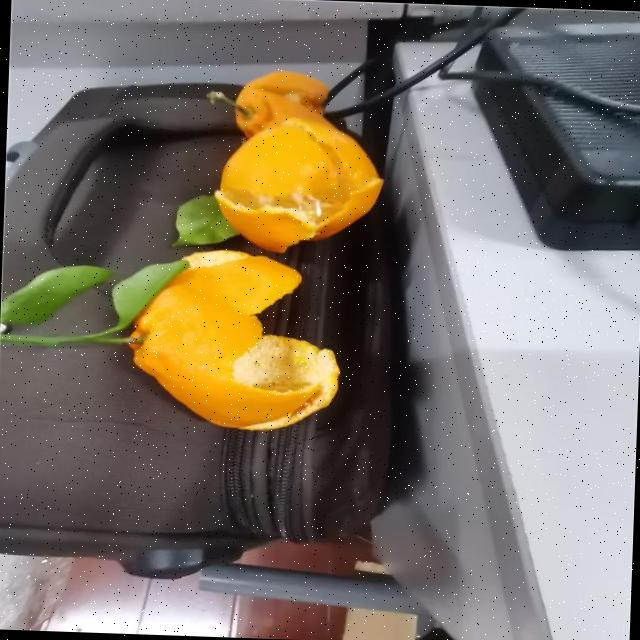orange-peel: (124, 246, 344, 434)
